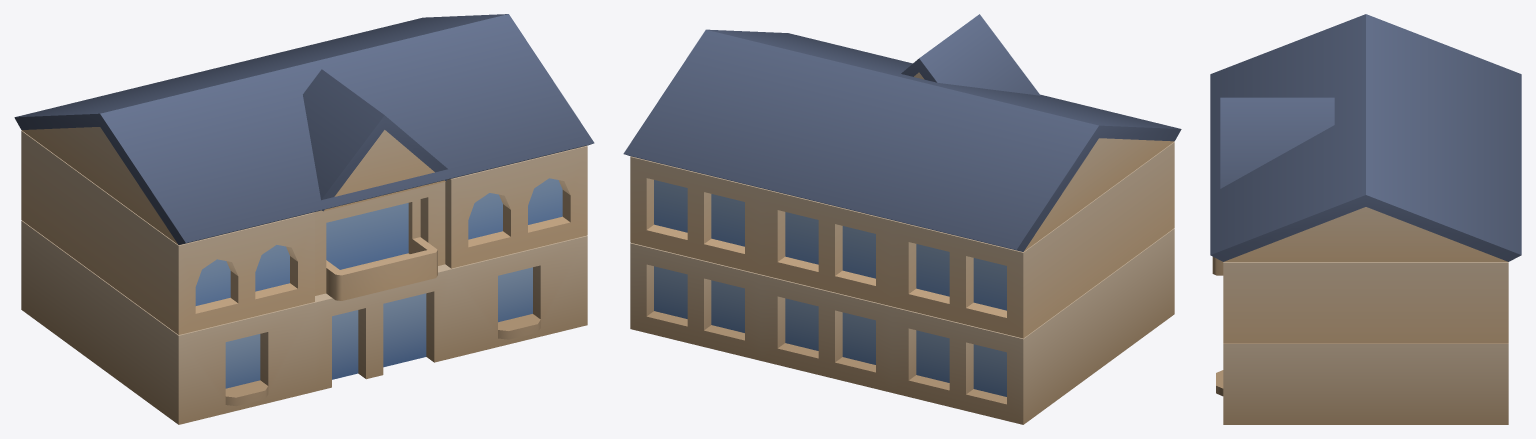
3 renders of one model, left to right at view 1: azimuth 30°, elevation 25°; view 2: azimuth 150°, elevation 25°; view 3: azimuth 270°, elevation 25°, orthographic. The views are drawn at different scales.
Bounding box in the file's own units: 1.74 × 1.06 × 1.27.
